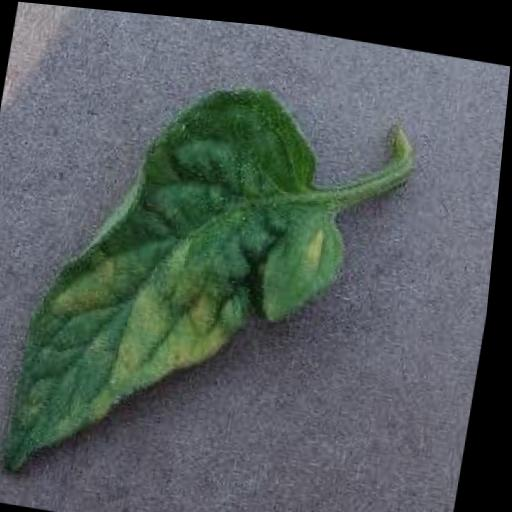Leaf Mold: (5, 56, 380, 512)
